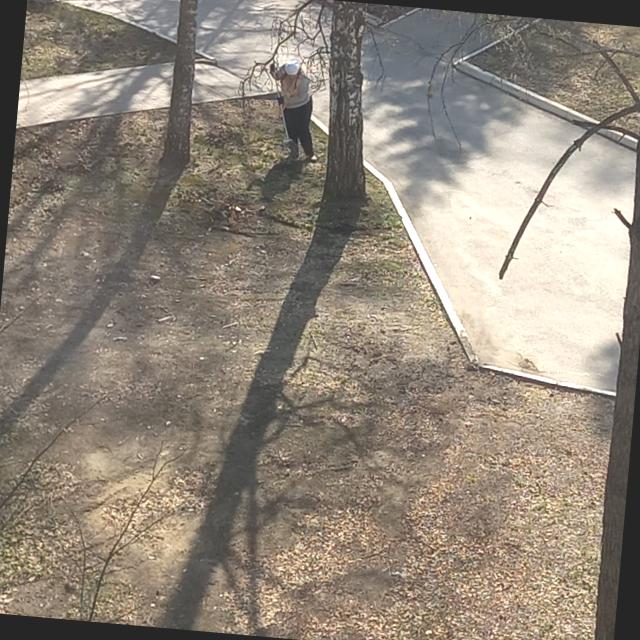person: (264, 56, 326, 162)
